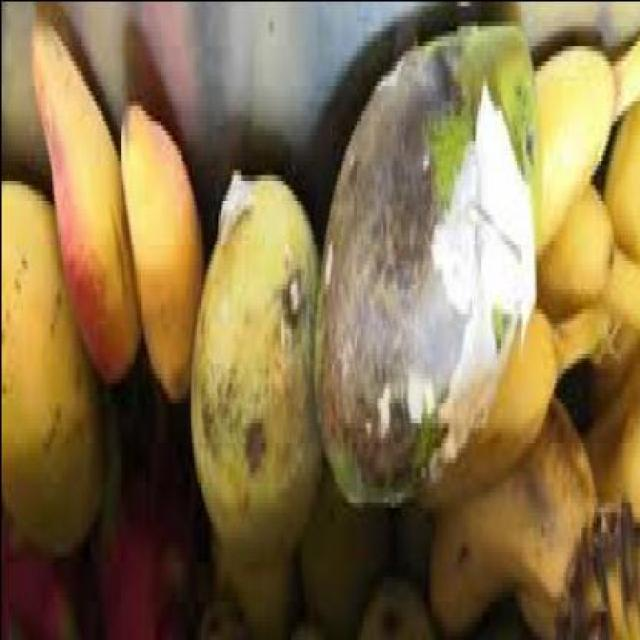BIODEGRADABLE: (311, 25, 537, 517), (395, 287, 614, 561), (187, 183, 319, 571), (28, 26, 137, 392), (427, 402, 596, 636), (512, 362, 638, 638), (1, 179, 94, 546), (117, 99, 205, 407), (96, 397, 206, 638), (531, 39, 638, 273), (295, 446, 390, 631), (534, 183, 638, 328), (551, 500, 640, 638), (2, 528, 80, 638), (209, 540, 289, 635), (602, 104, 638, 258), (354, 571, 434, 638)
